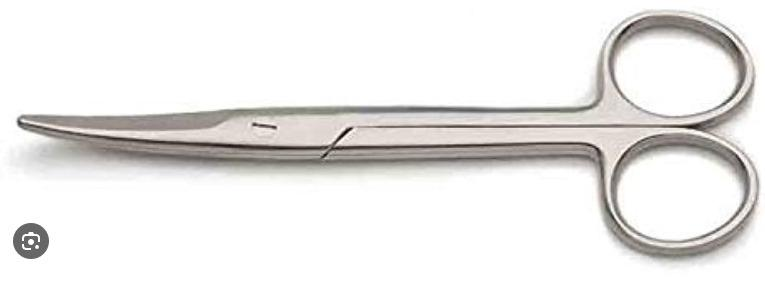Curved Mayo: (16, 9, 757, 255)
